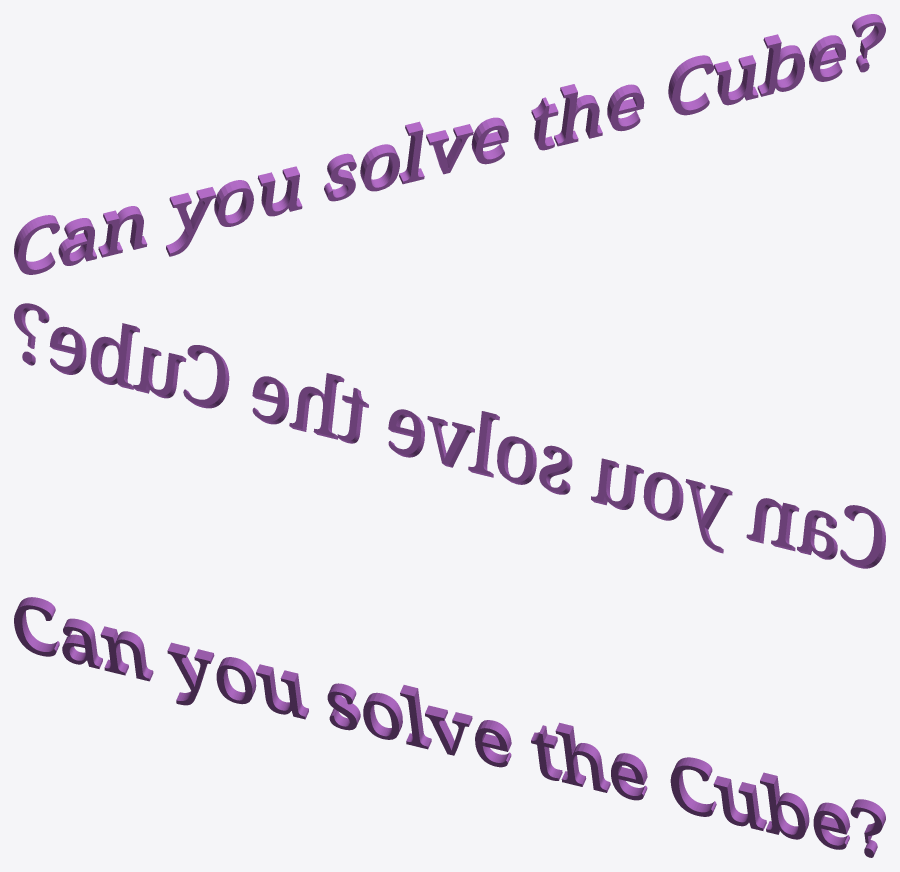
Rendered from solve_the_cube.glb.
3 views of the same model, one above another, from view 1: azimuth 30°, elevation 25°; view 2: azimuth 150°, elevation 25°; view 3: azimuth 330°, elevation 25° (orthographic).
Parts seen in each view (by area): view 1: Mesh_Mesh_head_geo.001_lambert2SG.001; view 2: Mesh_Mesh_head_geo.001_lambert2SG.001; view 3: Mesh_Mesh_head_geo.001_lambert2SG.001.
Part boxes in pixels (box(x1,y1,x2,y2)): Mesh_Mesh_head_geo.001_lambert2SG.001: box(14, 14, 885, 274); Mesh_Mesh_head_geo.001_lambert2SG.001: box(14, 303, 885, 568); Mesh_Mesh_head_geo.001_lambert2SG.001: box(14, 597, 885, 857).
Size of the model in its own units: 0.3168 by 0.0276 by 0.0077.
